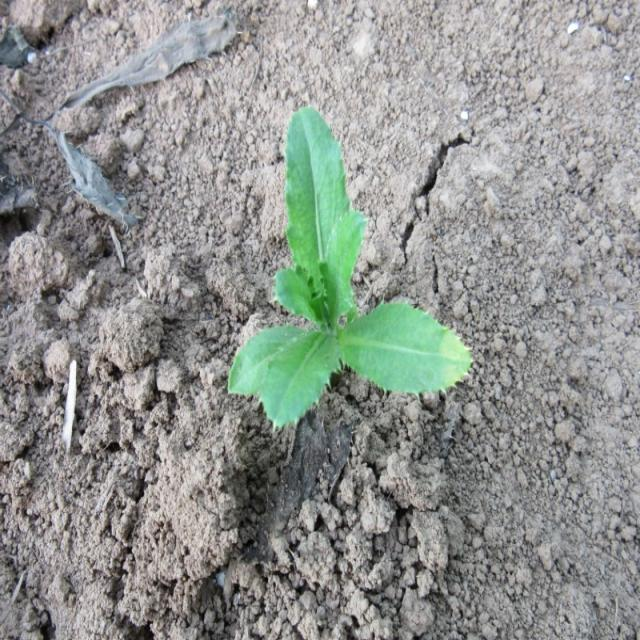cs: (226, 102, 476, 430)
